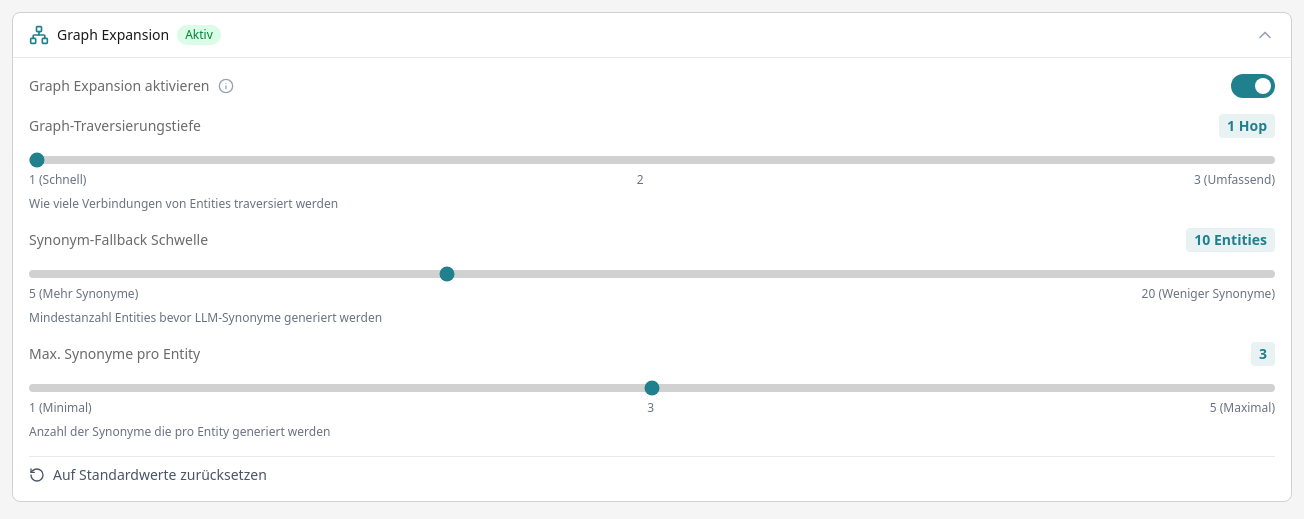
Test: GraphExpansionSettings › GraphExpansionSettings Component › updates hop depth slider
# Change to 3 hops
Set the slider with test id "graph-expansion-hops-slider" to "3" at (1267, 160), box [29,156,1275,164]
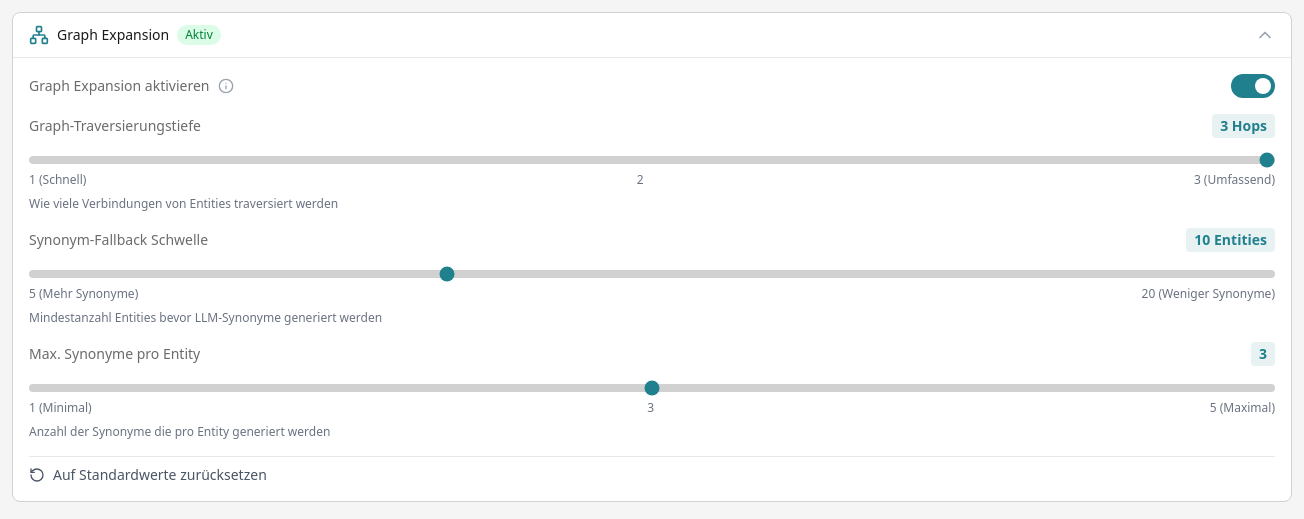
expect the text "3 Hops" is shown: met, box [1212,114,1275,138]
